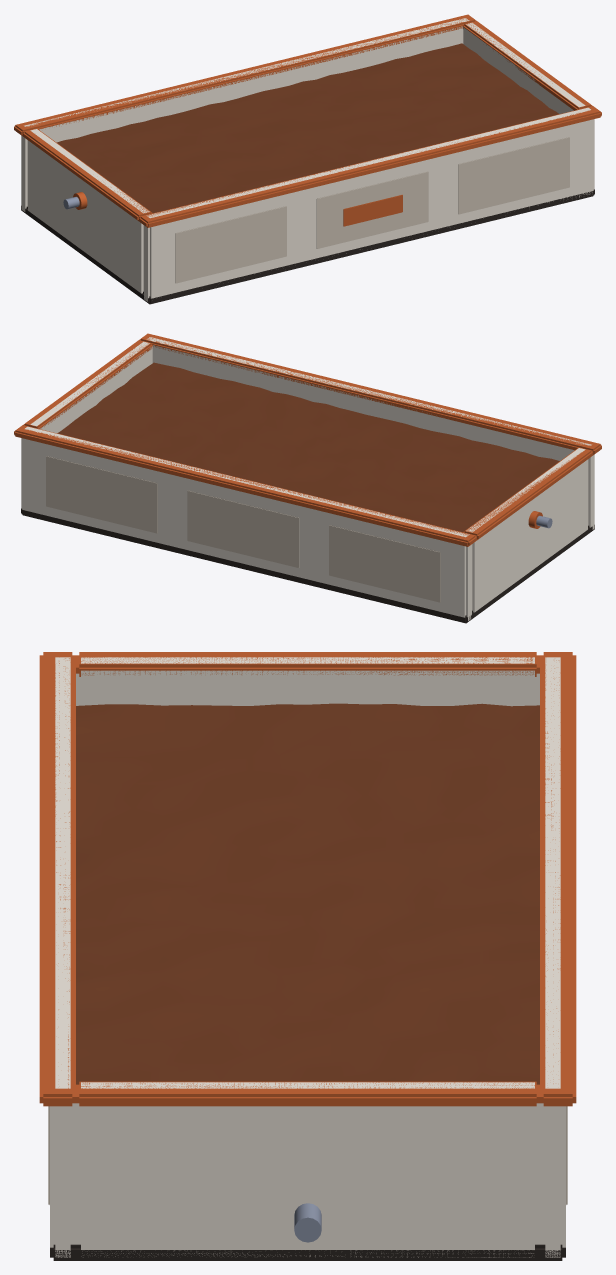
The model's file is regolith_bed.glb.
3 renders of one model, top to bottom at view 1: azimuth 30°, elevation 25°; view 2: azimuth 150°, elevation 25°; view 3: azimuth 270°, elevation 25°, orthographic. The views are drawn at different scales.
Visible parts, largest first — view 1: Soil_Regolith, Body_White, Body_Dim, Trim_Rust, Base_Basalt; view 2: Soil_Regolith, Body_White, Body_Dim, Trim_Rust, Base_Basalt; view 3: Soil_Regolith, Body_White, Trim_Rust, Base_Basalt, Steel.
Boxes of the visible parts, <box> form: Soil_Regolith: <box>57,43,559,213</box>; Body_White: <box>21,18,594,301</box>; Body_Dim: <box>175,137,569,283</box>; Trim_Rust: <box>14,14,601,227</box>; Base_Basalt: <box>21,189,594,304</box>; Soil_Regolith: <box>57,362,559,532</box>; Body_White: <box>21,337,594,620</box>; Body_Dim: <box>46,456,440,602</box>; Trim_Rust: <box>14,333,601,546</box>; Base_Basalt: <box>21,508,594,623</box>; Soil_Regolith: <box>76,703,539,1084</box>; Body_White: <box>50,657,565,1257</box>; Trim_Rust: <box>39,652,576,1106</box>; Base_Basalt: <box>50,1244,565,1260</box>; Steel: <box>294,1203,321,1242</box>.
Size of the model in its own units: 1.29 by 0.22 by 0.624.
